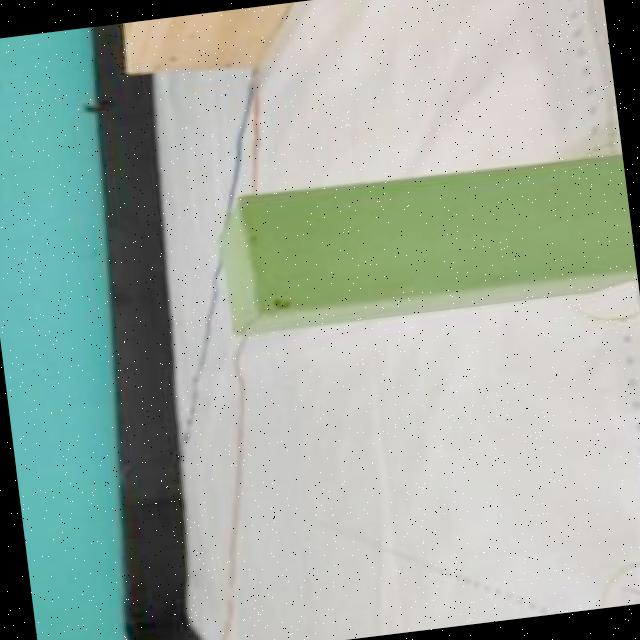greenbox: (205, 145, 639, 347)
